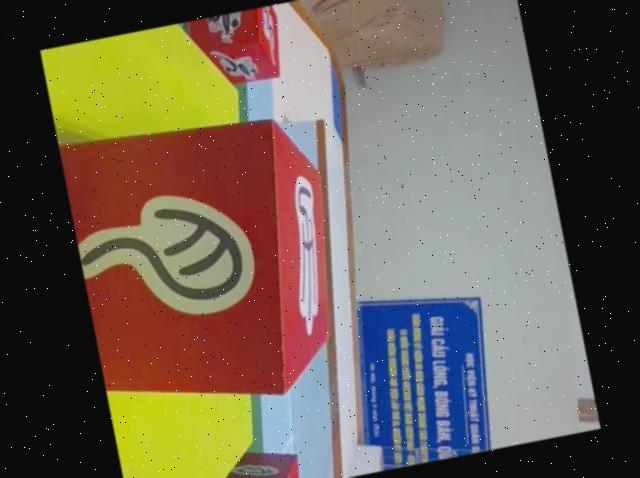R1: (183, 4, 291, 94)
R2 Fake: (58, 90, 367, 428)
R2 Real: (183, 440, 305, 478)
